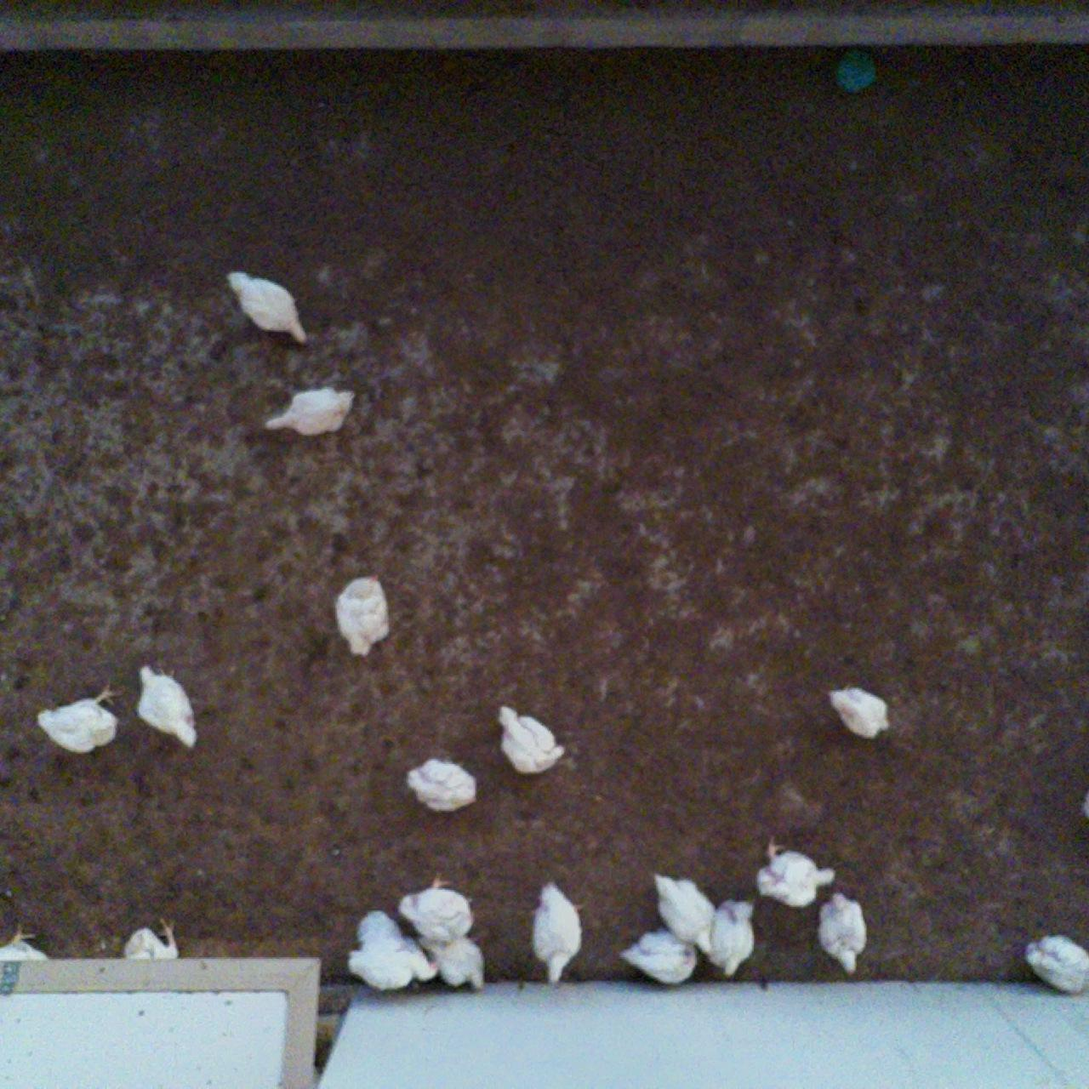chicken: (341, 911, 440, 992), (30, 680, 125, 756), (220, 262, 309, 339), (752, 834, 838, 908), (529, 881, 588, 985), (120, 913, 184, 1003), (650, 871, 718, 955), (132, 661, 199, 744), (399, 876, 475, 947), (264, 383, 358, 440), (495, 704, 567, 777), (332, 573, 391, 659), (621, 927, 701, 989), (814, 889, 868, 976), (418, 926, 485, 994), (403, 755, 482, 812), (1022, 930, 1089, 997), (702, 894, 753, 978), (0, 921, 60, 991), (825, 681, 891, 743), (1080, 781, 1089, 829)
